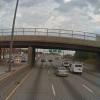Bridge: (4, 20, 94, 57)
